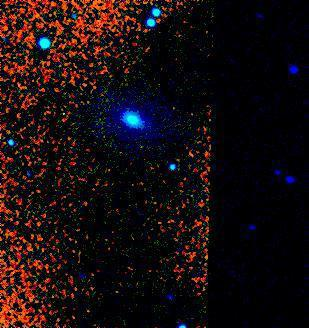star: (48, 97, 78, 127)
